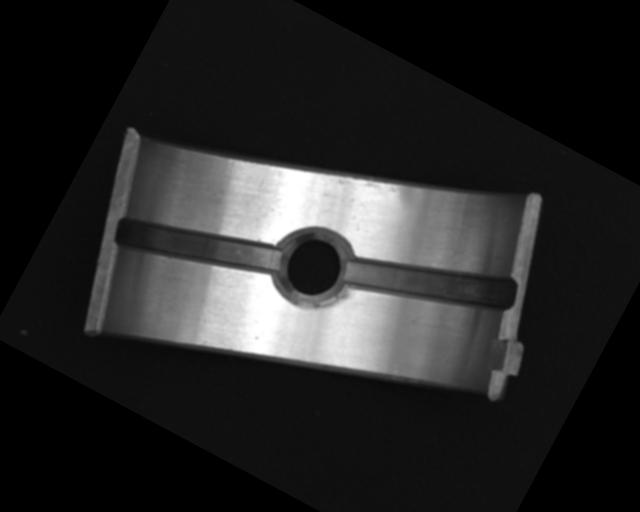gap: (339, 209, 517, 356), (108, 175, 284, 315)
hole: (258, 212, 366, 322)
